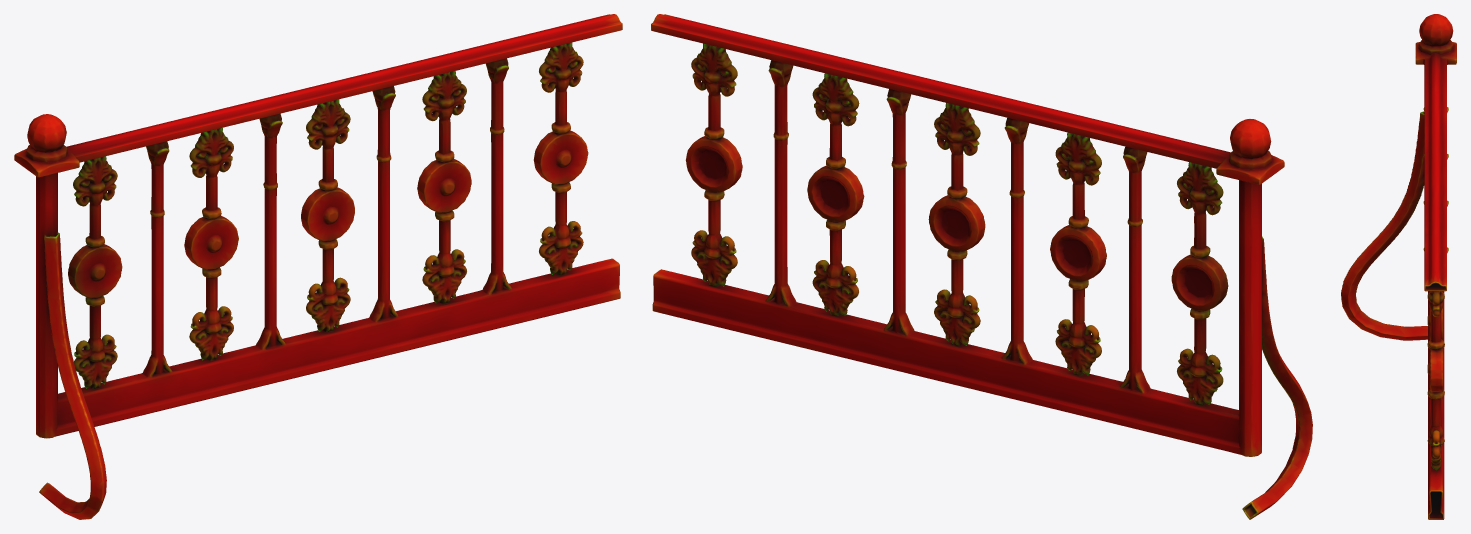
File: SM_Railing.fbx
3 views of the same model, side by side, from view 1: azimuth 30°, elevation 25°; view 2: azimuth 150°, elevation 25°; view 3: azimuth 270°, elevation 25° (orthographic). The views are drawn at different scales.
Visible parts, largest first — view 1: transform1; view 2: transform1; view 3: transform1.
Part boxes in pixels (x1,y1,x2,y2): transform1: (14,14,622,519); transform1: (651,14,1312,519); transform1: (1341,14,1456,519).
Size of the model in its own units: 260 by 52.1 by 161.
